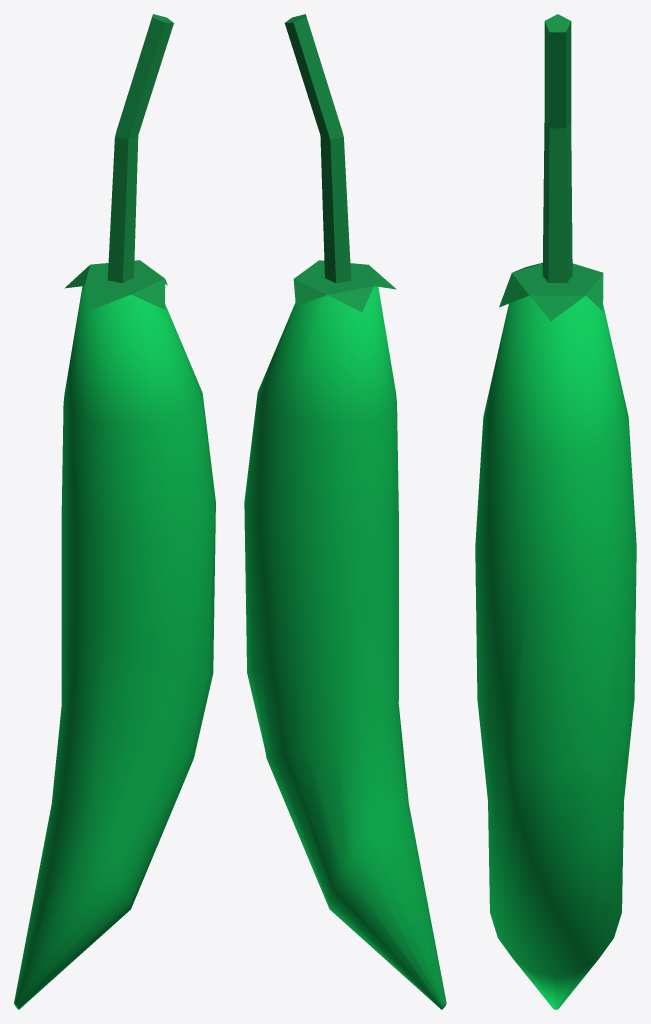
Rendered from CucumberChili2.FBX.
3 renders of one model, left to right at view 1: azimuth 30°, elevation 25°; view 2: azimuth 150°, elevation 25°; view 3: azimuth 270°, elevation 25°, orthographic. The views are drawn at different scales.
Parts seen in each view (by area): view 1: Cylinder001; view 2: Cylinder001; view 3: Cylinder001.
Part boxes in pixels (left/top/right/bottom): Cylinder001: left=14, top=14, right=215, bottom=1009; Cylinder001: left=244, top=14, right=446, bottom=1009; Cylinder001: left=475, top=14, right=636, bottom=1009.
Size of the model in its own units: 2.04 by 9.7 by 1.32.
